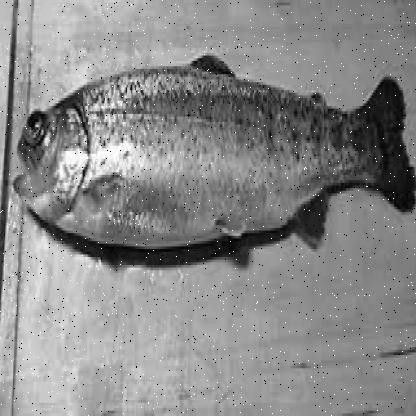fish: (13, 47, 415, 264)
